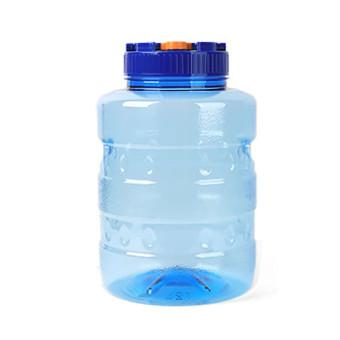bottle: (98, 37, 258, 304)
